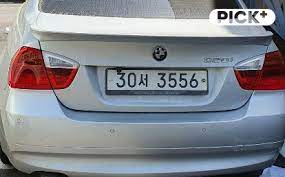car: (102, 62, 211, 99)
